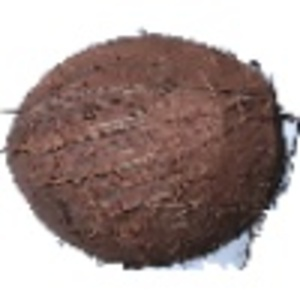coco: (5, 32, 300, 272)
